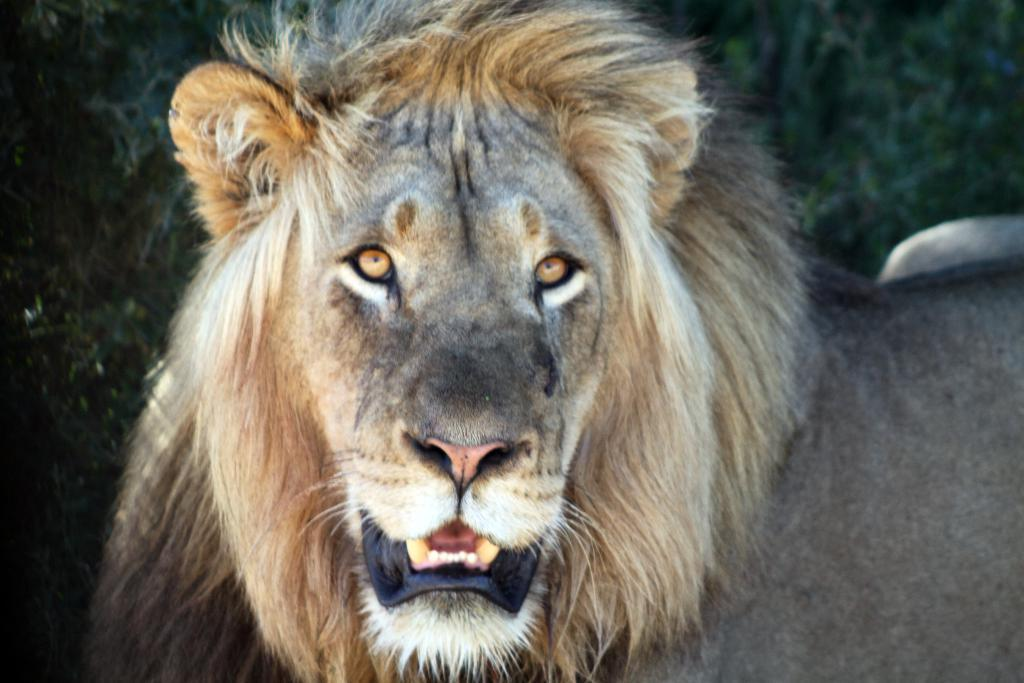lions: (115, 0, 1024, 683)
